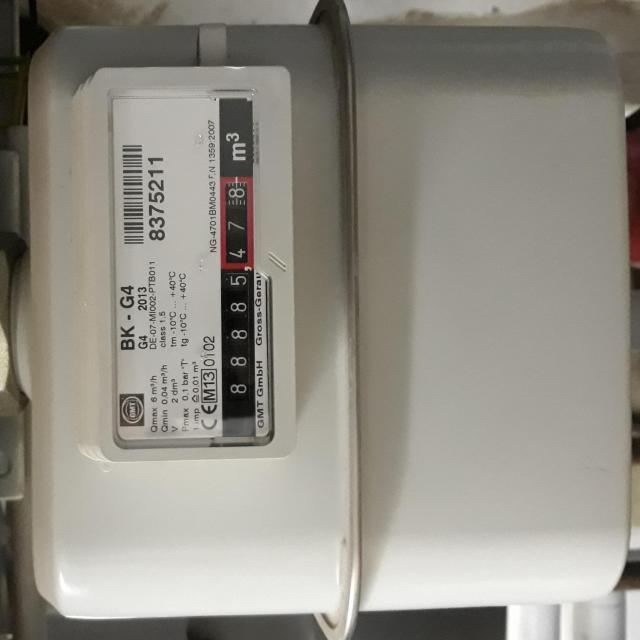gaz_meter: (108, 90, 274, 448)
indication: (218, 178, 254, 419)
